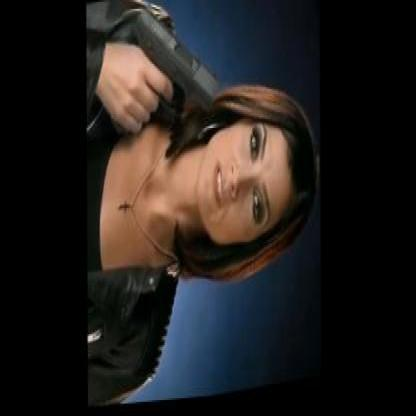pistol: (106, 0, 221, 146)
